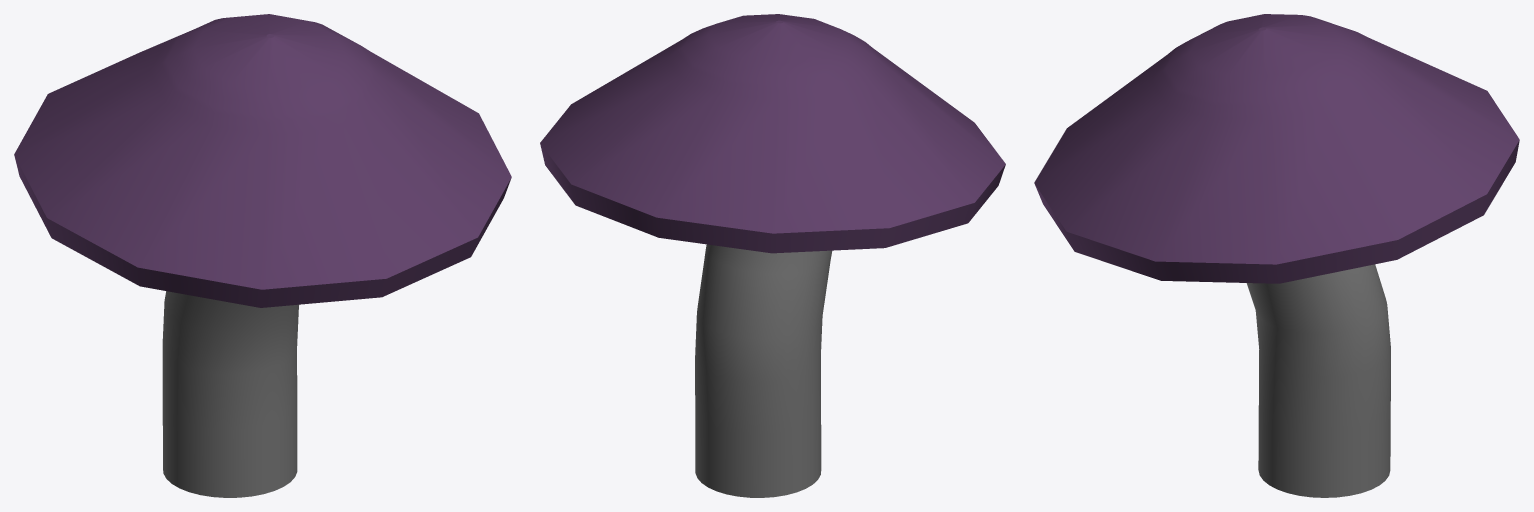
Rendered from FatTreefbx 1.fbx.
The picture shows the model from 3 angles, left to right: view 1: azimuth 30°, elevation 25°; view 2: azimuth 150°, elevation 25°; view 3: azimuth 270°, elevation 25°; orthographic projection. The views are drawn at different scales.
Visible parts, largest first — view 1: TreeTop.001; view 2: TreeTop.001; view 3: TreeTop.001.
Part boxes in pixels (x1=…): TreeTop.001: x1=14, y1=14, x2=511, y2=497; TreeTop.001: x1=540, y1=14, x2=1005, y2=497; TreeTop.001: x1=1034, y1=14, x2=1519, y2=497.
Bounding box in the file's own units: 1371 × 1382 × 1364.
